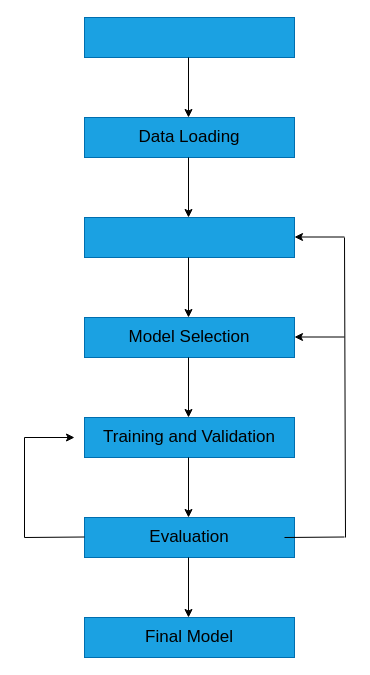
This 370x675 diagram has some shape labels left out. Each missing label, with the centre of its shape:
"Data Preprocessing" goes at point (189, 237).
"Dataset Selection" goes at point (189, 37).
